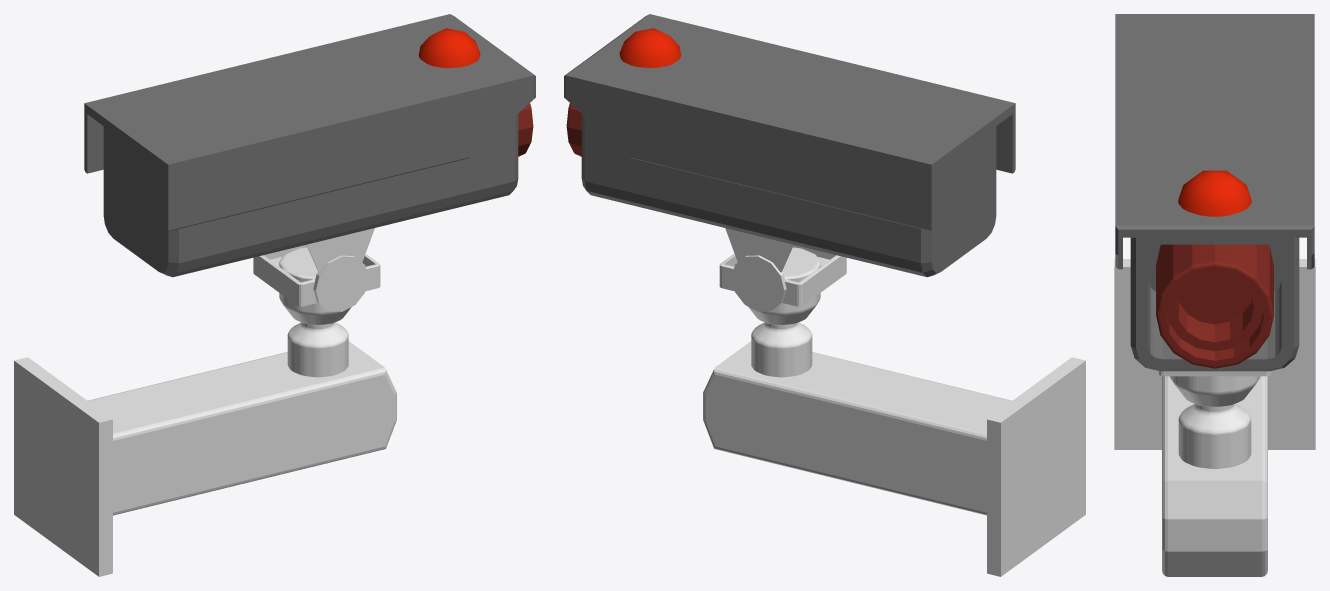
File: Security_camera.fbx
The picture shows the model from 3 angles, left to right: view 1: azimuth 30°, elevation 25°; view 2: azimuth 150°, elevation 25°; view 3: azimuth 270°, elevation 25°; orthographic projection. The views are drawn at different scales.
Visible parts, largest first — view 1: Camera Housing, Wall Extension, Pivot, Camera Neck, Light, Lense; view 2: Camera Housing, Wall Extension, Pivot, Camera Neck, Light, Lense; view 3: Camera Housing, Wall Extension, Lense, Camera Neck, Light, Pivot.
Part boxes in pixels (x1,y1,x2,y2): Camera Housing: [84, 14, 535, 277]; Wall Extension: [14, 341, 396, 576]; Pivot: [253, 228, 380, 311]; Camera Neck: [279, 247, 351, 377]; Light: [418, 28, 480, 67]; Lense: [518, 103, 533, 156]; Camera Housing: [564, 14, 1015, 277]; Wall Extension: [703, 341, 1085, 576]; Pivot: [719, 228, 846, 311]; Camera Neck: [748, 247, 820, 377]; Light: [619, 28, 681, 67]; Lense: [566, 103, 581, 156]; Camera Housing: [1115, 14, 1314, 371]; Wall Extension: [1114, 259, 1315, 576]; Lense: [1156, 244, 1273, 368]; Camera Neck: [1169, 376, 1260, 468]; Light: [1178, 170, 1251, 216]; Pivot: [1153, 369, 1276, 376].
Size of the model in its own units: 531 by 469 by 173.
